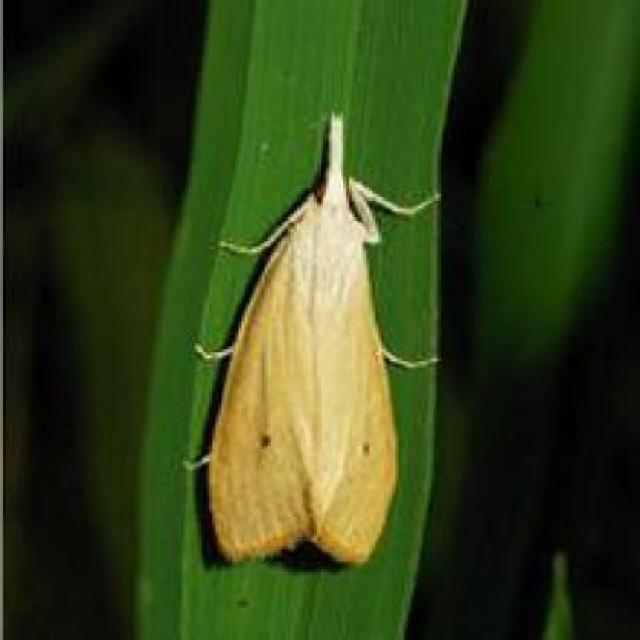stem-borer: (179, 111, 443, 569)
